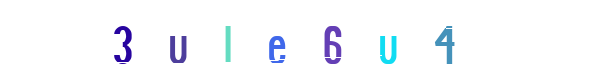3: (84, 0, 164, 80)
4: (347, 0, 427, 80)
6: (263, 0, 343, 80)
E: (227, 0, 307, 80)
L: (220, 0, 300, 80)
U: (211, 0, 291, 80), (327, 0, 407, 80)
